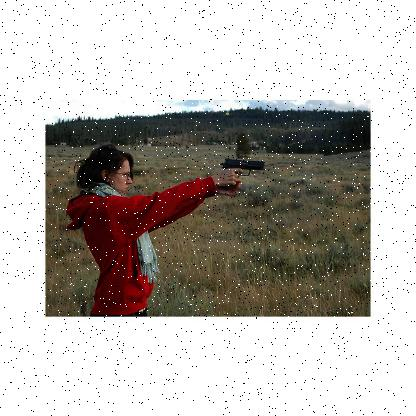gun: (218, 157, 264, 190)
